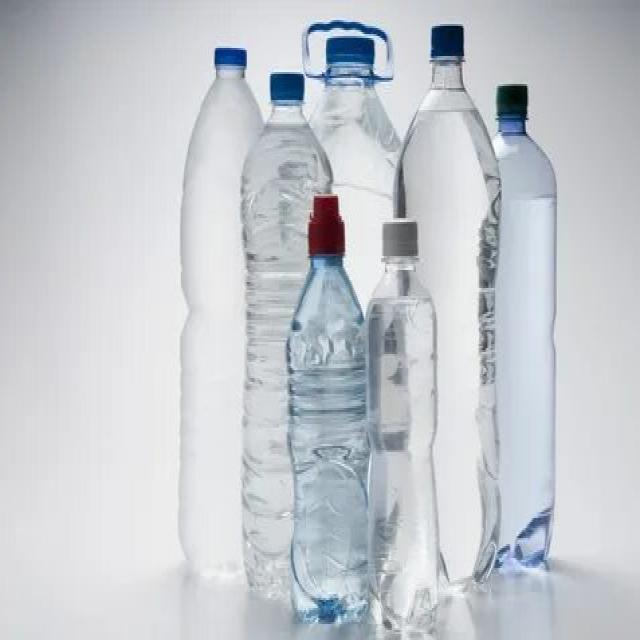blue: (286, 252, 374, 633)
